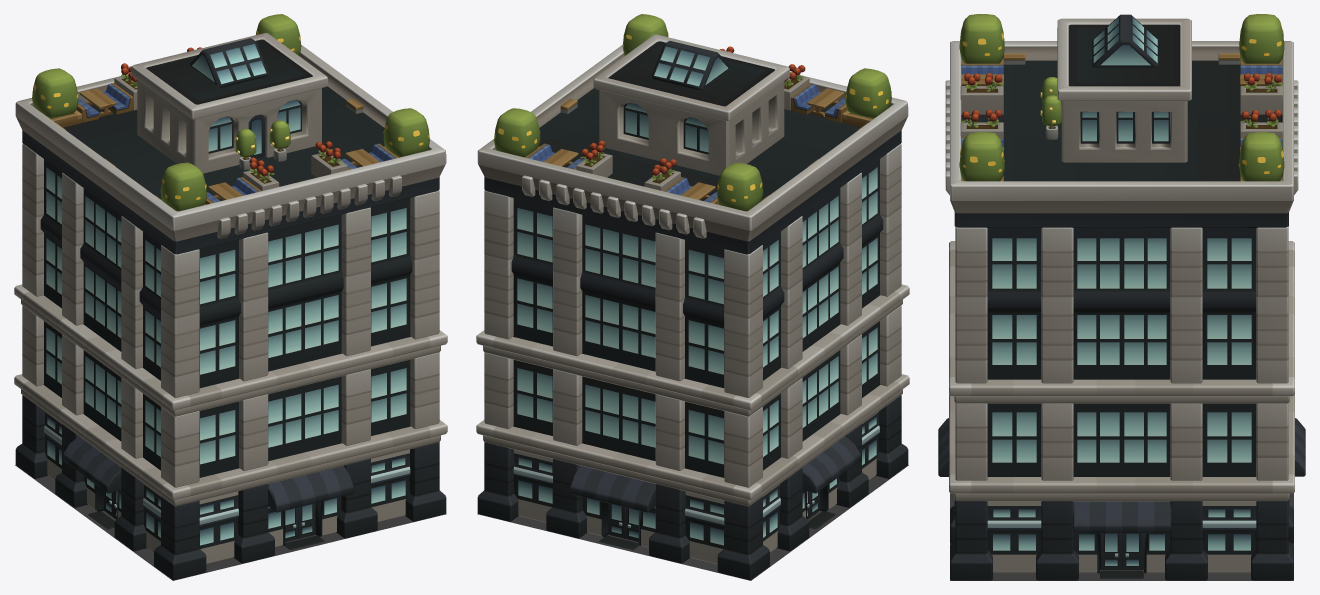
The model's file is cream_sky_scraper.glb.
3 views of the same model, side by side, from view 1: azimuth 30°, elevation 25°; view 2: azimuth 150°, elevation 25°; view 3: azimuth 270°, elevation 25° (orthographic). The views are drawn at different scales.
Visible parts, largest first — view 1: office_building_type1_double_floor_cream, office_building_type1_roof_cream_deco, office_building_type1_single_floor2_cream, office_building_type1_ground_floor_cream, door_front_office_right; view 2: office_building_type1_double_floor_cream, office_building_type1_roof_cream_deco, office_building_type1_single_floor2_cream, office_building_type1_ground_floor_cream, door_back_office_left; view 3: office_building_type1_roof_cream_deco, office_building_type1_double_floor_cream, office_building_type1_single_floor2_cream, office_building_type1_ground_floor_cream, door_rightside_office_left, door_rightside_office_right.
Boxes of the visible parts, x1,y1,x2,y2 form: office_building_type1_double_floor_cream: (14, 144, 447, 416); office_building_type1_roof_cream_deco: (15, 14, 446, 254); office_building_type1_single_floor2_cream: (14, 305, 447, 506); office_building_type1_ground_floor_cream: (15, 395, 446, 580); door_front_office_right: (298, 503, 315, 538); office_building_type1_double_floor_cream: (476, 144, 909, 416); office_building_type1_roof_cream_deco: (477, 14, 908, 254); office_building_type1_single_floor2_cream: (476, 305, 909, 506); office_building_type1_ground_floor_cream: (477, 395, 908, 580); door_back_office_left: (608, 503, 625, 538); office_building_type1_roof_cream_deco: (945, 14, 1298, 227); office_building_type1_double_floor_cream: (949, 226, 1294, 403); office_building_type1_single_floor2_cream: (949, 395, 1294, 501); office_building_type1_ground_floor_cream: (938, 418, 1305, 580); door_rightside_office_left: (1100, 533, 1121, 570); door_rightside_office_right: (1122, 533, 1143, 570).
Size of the model in its own units: 17.08 by 24.72 by 17.08.
Materials: 4 (4 with a texture image).
